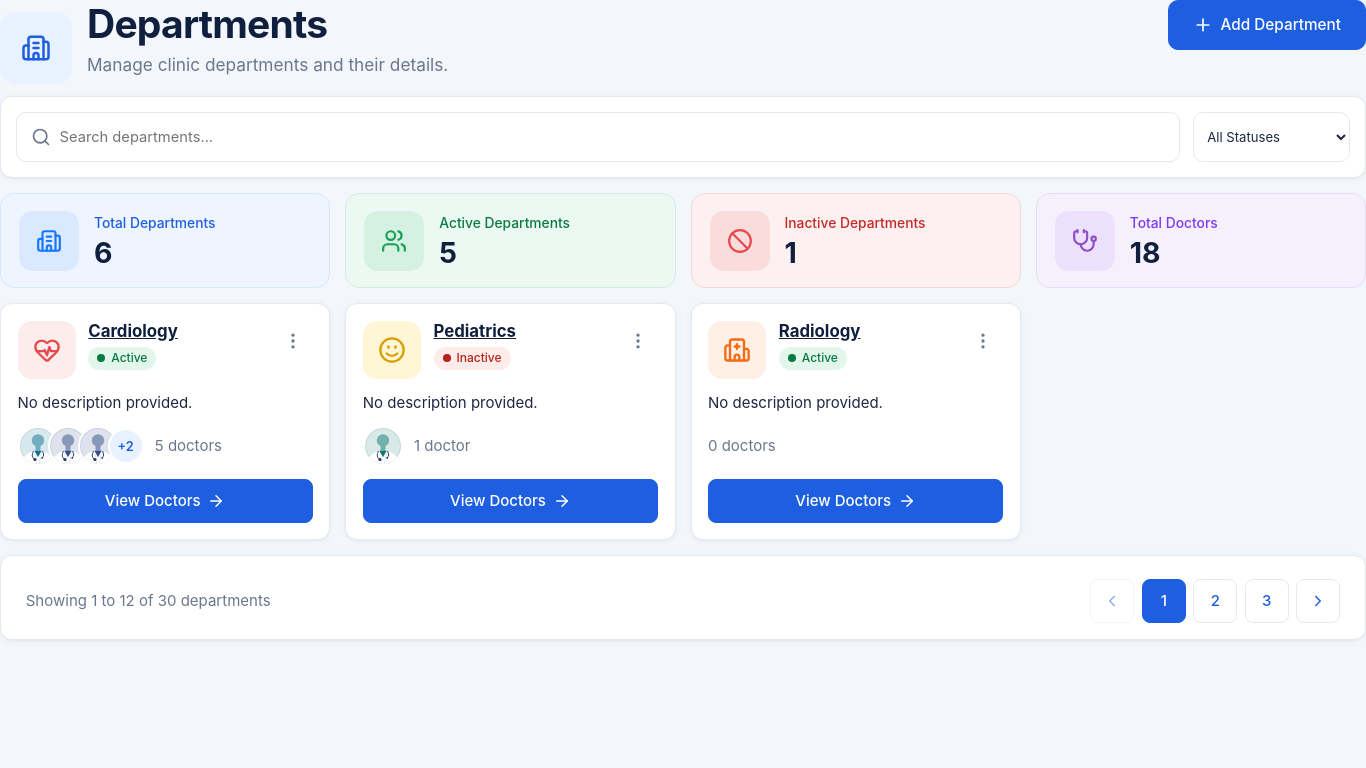
Test: Add and edit › a duplicate name is shown on the field
This screenshot has width=1366, height=768.
Click the button "Add Department".
click(1267, 25)  # box 1168,0 -> 1365,50
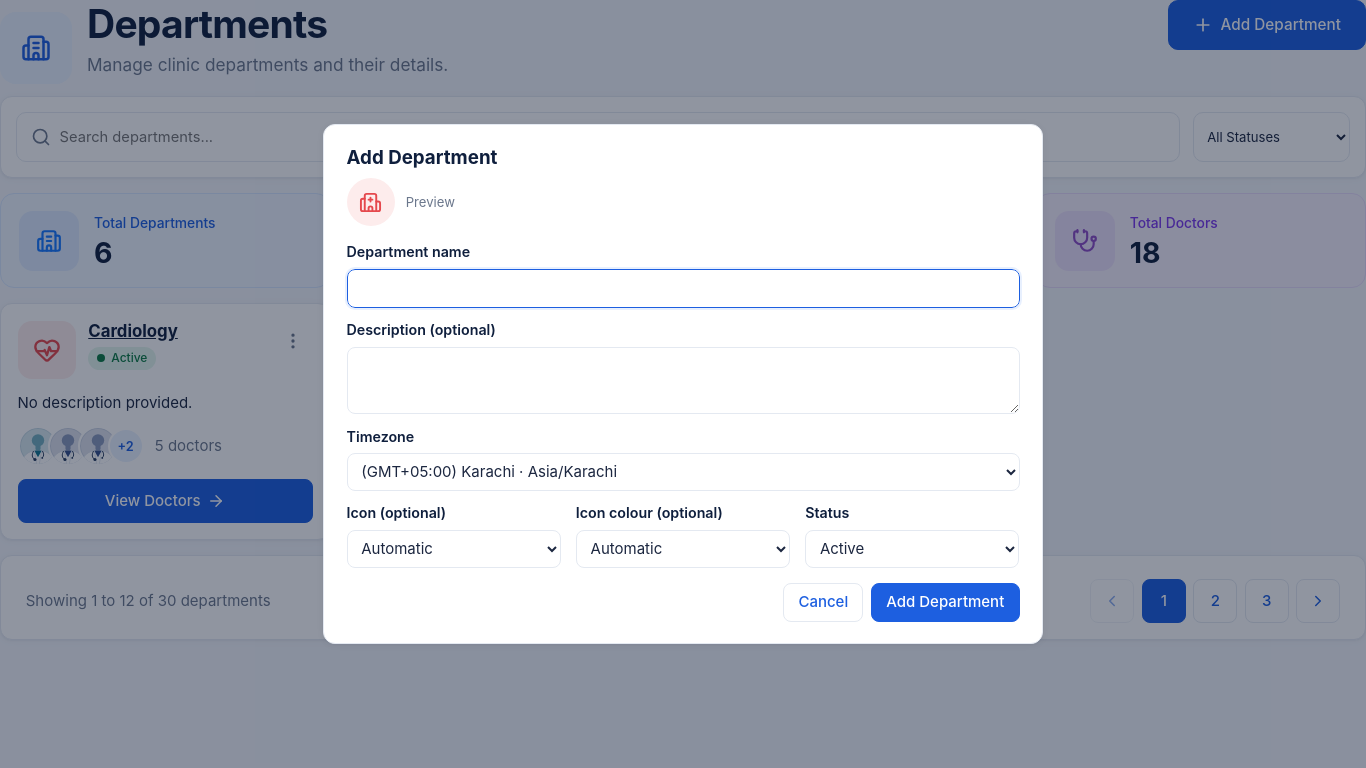
Type "Cardiology" into the field labelled "Department name".
click(683, 288); type("Cardiology")  # box 346,269 -> 1020,308
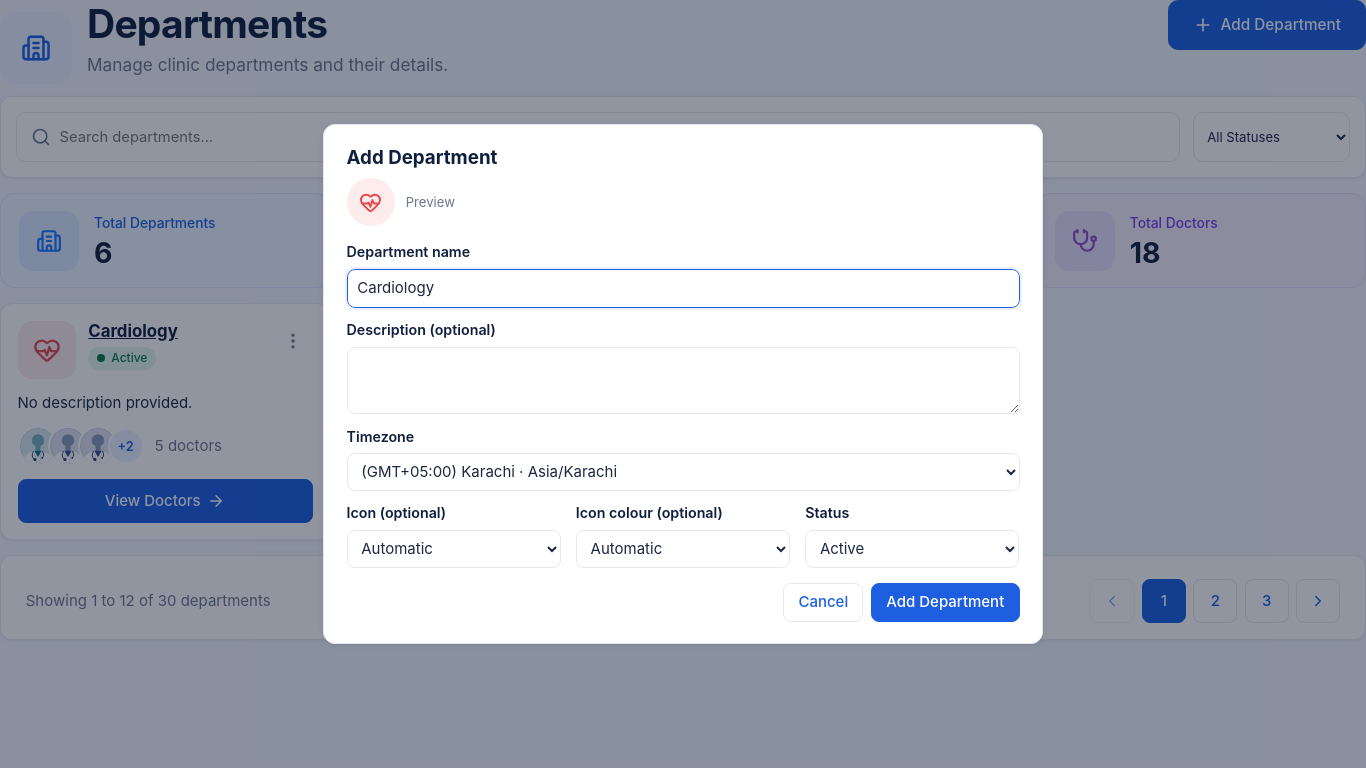
Click the button "Add Department".
click(945, 602)  # box 871,583 -> 1020,622
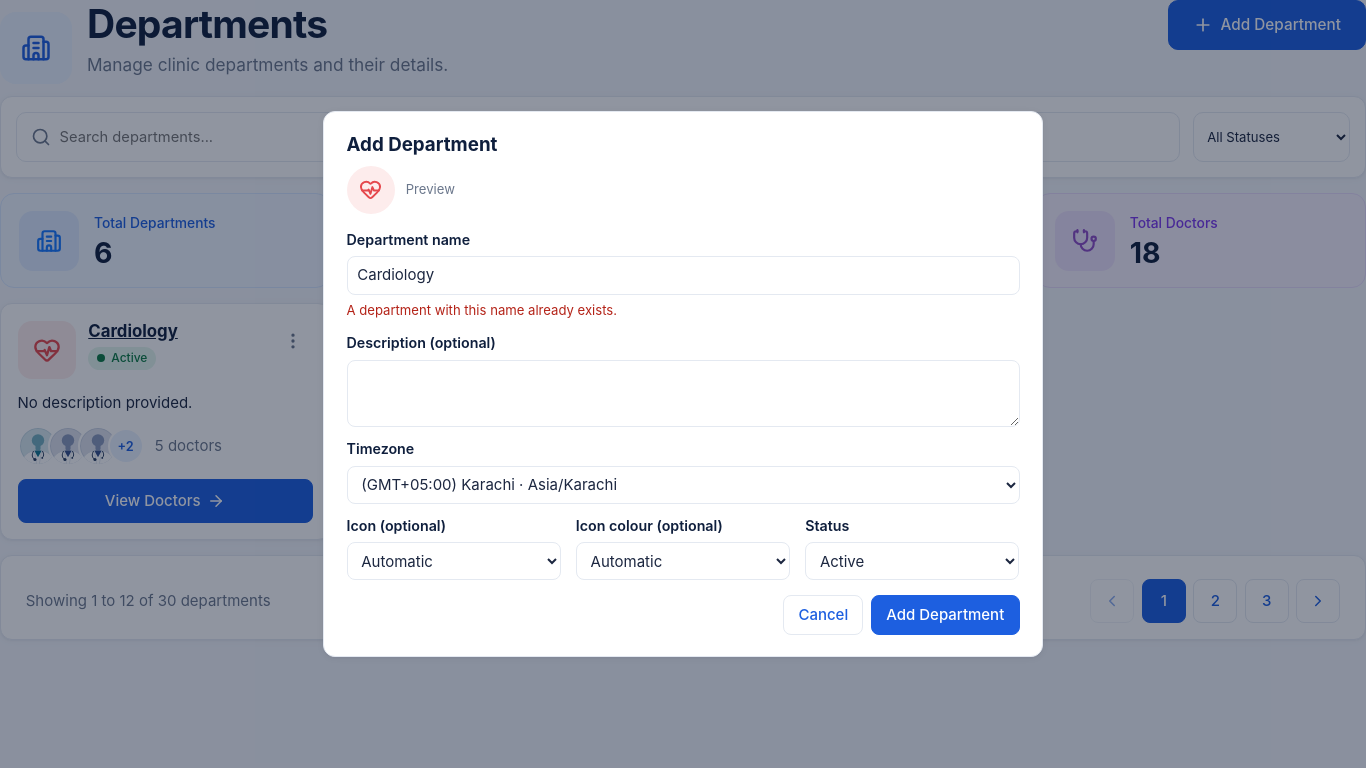
Check: the text "A department with this name already exists." is shown, box 346,302 -> 617,318
